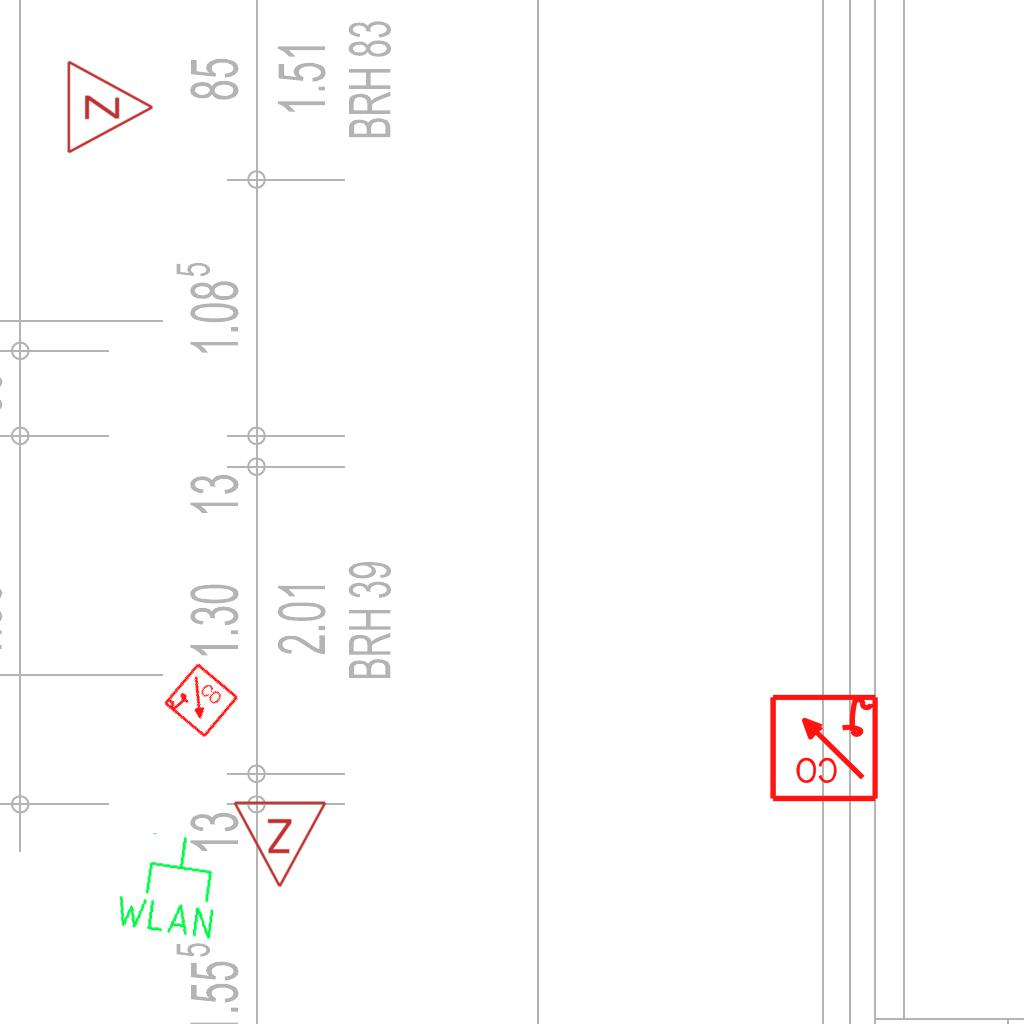ROA_Rauchmelder_optisch_mit_Signalgeber_(Sockelsirene): (767, 690, 880, 803), (161, 661, 241, 741)
WLAN: (109, 825, 229, 944)
Zimmersignalleuchte: (60, 57, 160, 155), (232, 794, 330, 894)
